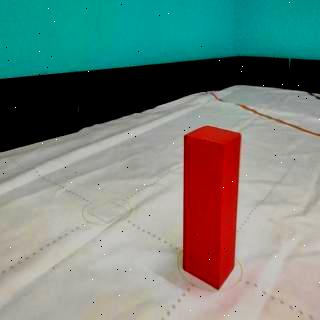redbox: (183, 124, 240, 291)
